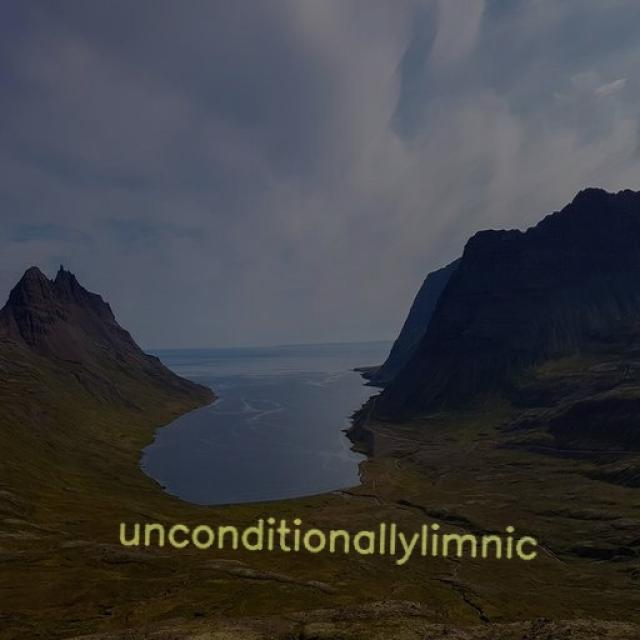watermark: (107, 512, 568, 564)
